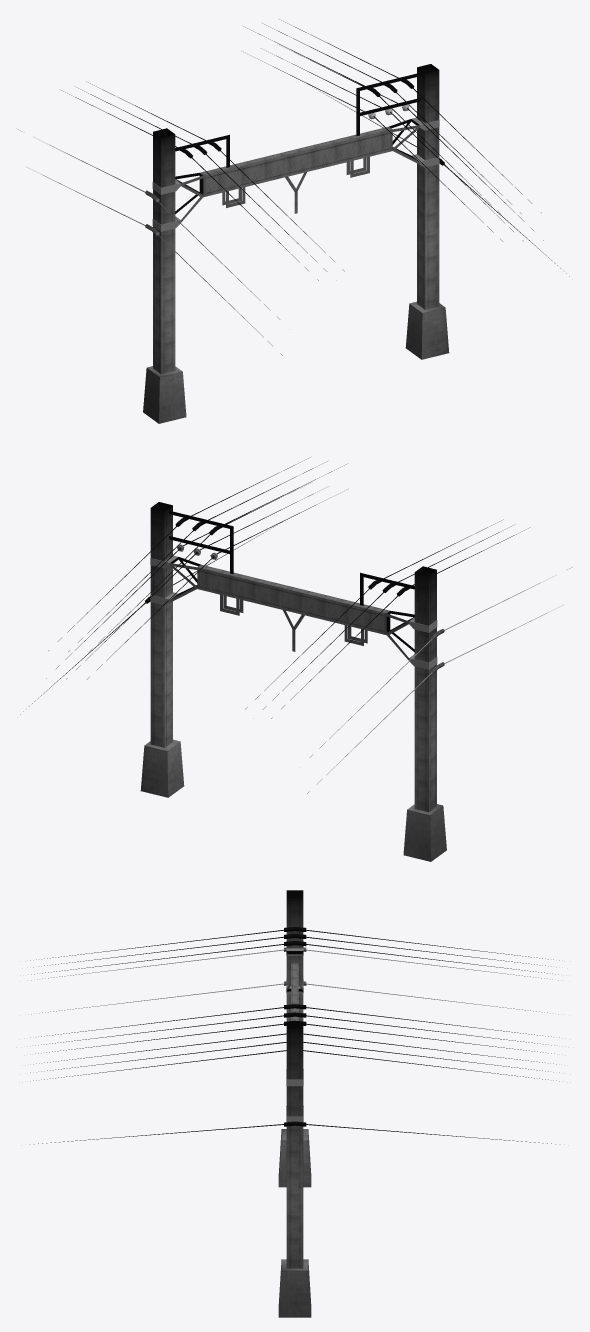
The model's file is KASENCHU_KQ00.glb.
The picture shows the model from 3 angles, top to bottom: view 1: azimuth 30°, elevation 25°; view 2: azimuth 150°, elevation 25°; view 3: azimuth 270°, elevation 25°; orthographic projection.
Parts seen in each view (by area): view 1: Base_Block; view 2: Base_Block; view 3: Base_Block.
Boxes of the visible parts, bbox=[...] form: Base_Block: bbox=[18, 19, 569, 423]; Base_Block: bbox=[20, 457, 571, 861]; Base_Block: bbox=[30, 890, 559, 1317].
Bounding box in the file's own units: 30.34 × 28.12 × 50.
Materials: 5 (5 with a texture image).
